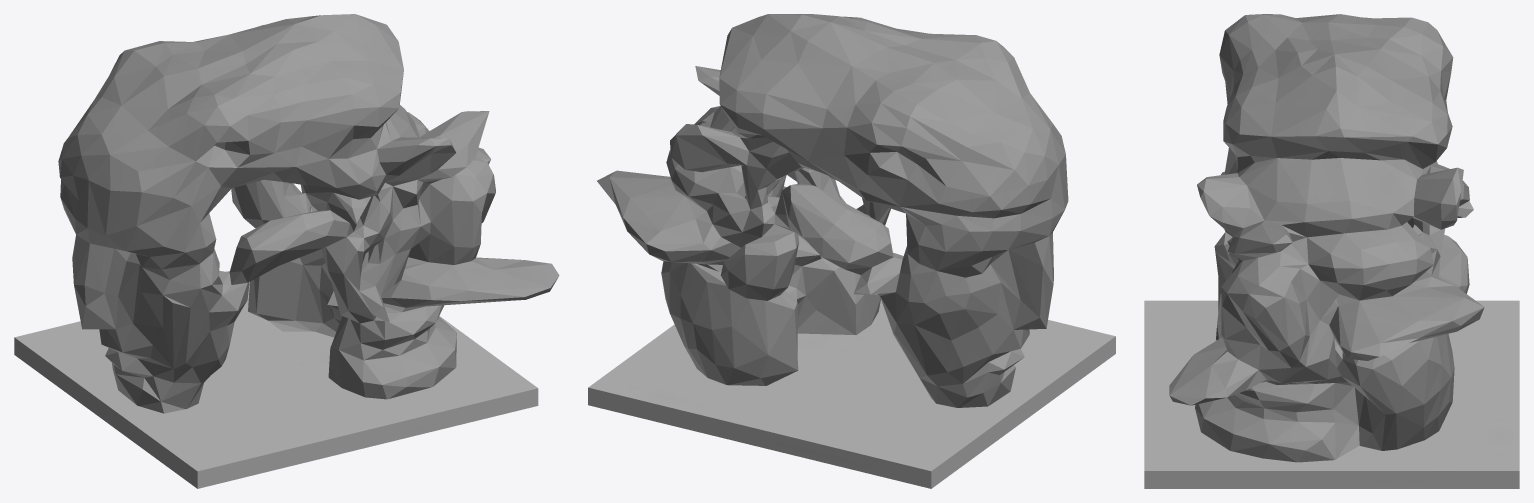
Rendered from Transformation.FBX.
The picture shows the model from 3 angles, left to right: view 1: azimuth 30°, elevation 25°; view 2: azimuth 150°, elevation 25°; view 3: azimuth 270°, elevation 25°; orthographic projection. The views are drawn at different scales.
Parts seen in each view (by area): view 1: Transformation; view 2: Transformation; view 3: Transformation.
Boxes of the visible parts, x1,y1,x2,y2 form: Transformation: [14, 14, 559, 488]; Transformation: [588, 14, 1115, 488]; Transformation: [1144, 14, 1519, 488].
Size of the model in its own units: 731 by 570 by 537.
